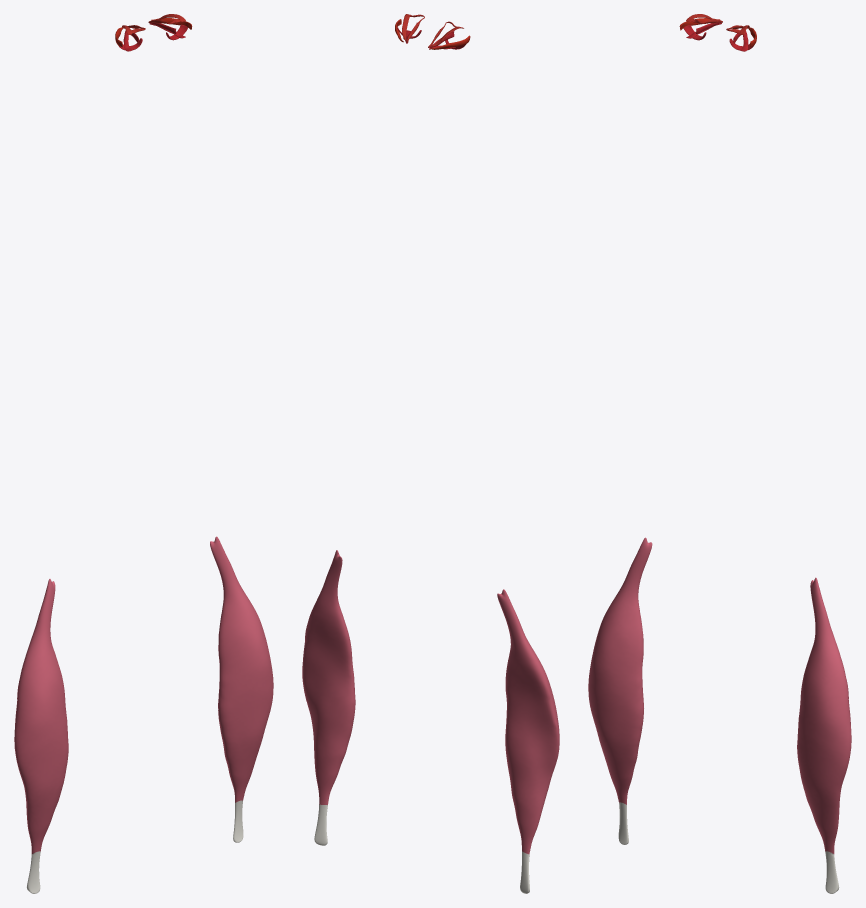
The model's file is female_muscular.glb.
The picture shows the model from 3 angles, left to right: view 1: azimuth 30°, elevation 25°; view 2: azimuth 150°, elevation 25°; view 3: azimuth 330°, elevation 25°; orthographic projection. The views are drawn at different scales.
Parts seen in each view (by area): view 1: VH_F_rectus_femoris_L, VH_F_rectus_femoris_R; view 2: VH_F_rectus_femoris_R, VH_F_rectus_femoris_L; view 3: VH_F_rectus_femoris_R, VH_F_rectus_femoris_L.
Boxes of the visible parts, bbox=[...] form: VH_F_rectus_femoris_L: bbox=[210, 536, 273, 802]; VH_F_rectus_femoris_R: bbox=[14, 579, 68, 853]; VH_F_rectus_femoris_R: bbox=[497, 589, 559, 854]; VH_F_rectus_femoris_L: bbox=[302, 550, 355, 804]; VH_F_rectus_femoris_R: bbox=[588, 537, 652, 804]; VH_F_rectus_femoris_L: bbox=[797, 577, 851, 853].
Bounding box in the file's own units: 0.3555 × 1.12 × 0.0543.
